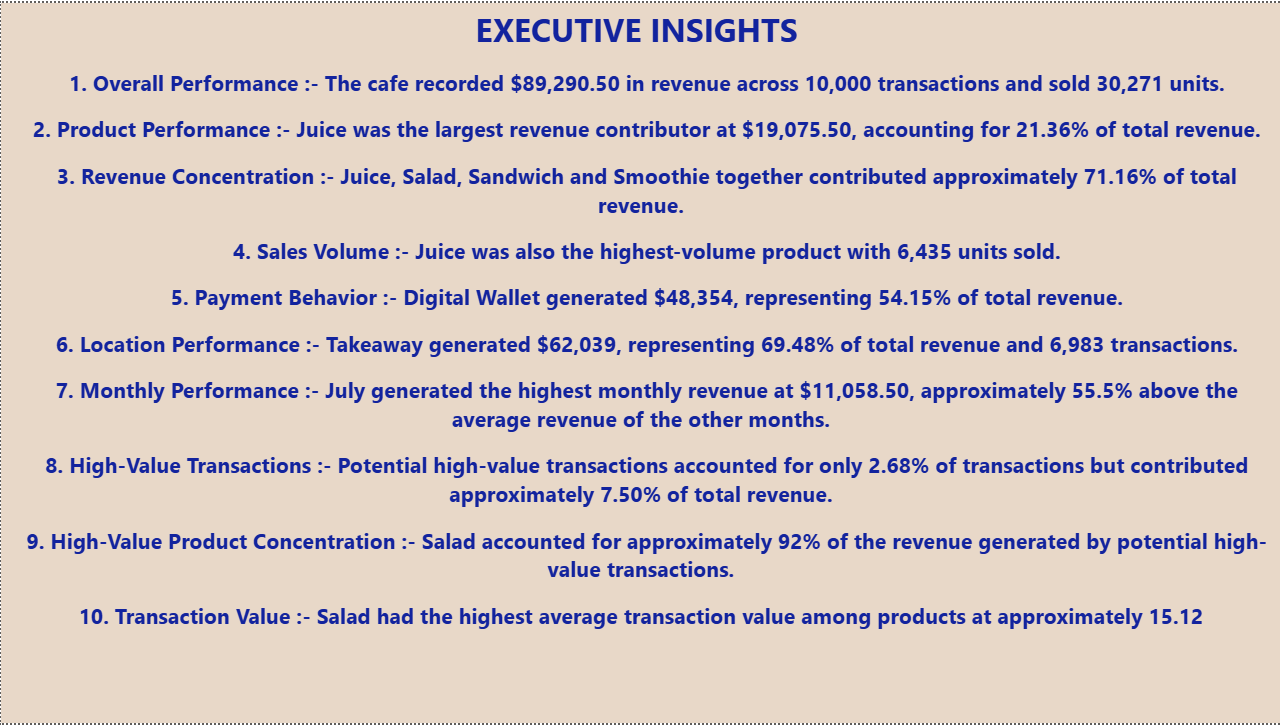

The dashboard page shown, as its layout file describes it:
{"tool":"powerbi","page":{"name":"Executive Insights","canvas":[1280,720],"ordinal":2},"visuals":[{"type":"textbox","box":[0,0,1280,720],"z":0}]}

Visuals, with their boxes in screenshot pixels (x1, y1, x2, y2), scaled from the page's 1280x720 canvas onto the 1280x725 screenshot:
textbox: (x1=0, y1=0, x2=1279, y2=724)
